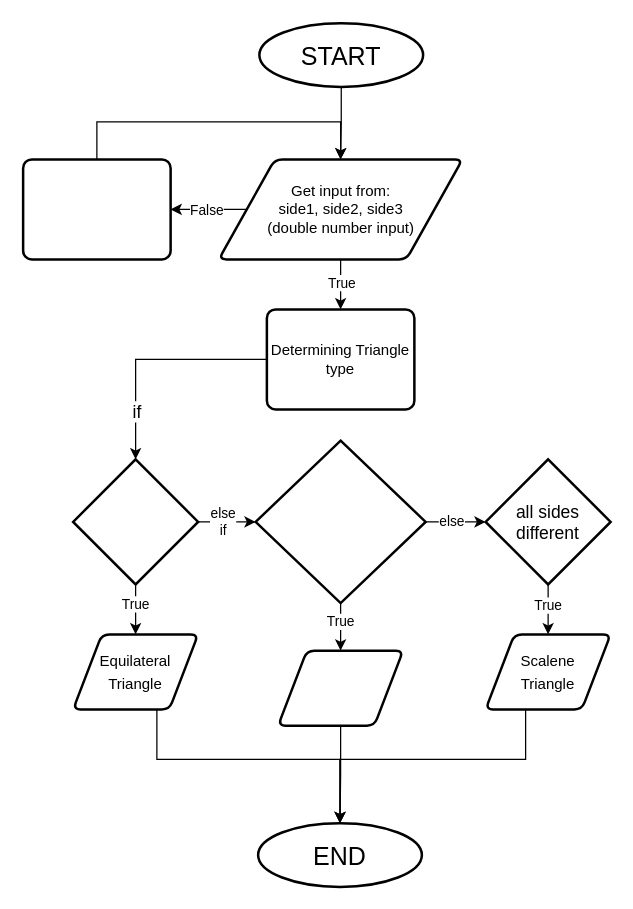
The diagram is 633 pixels wide and 909 high, and some of its shapes have lost their labels. Each missing label, with the centre of its shape:
"Invalid input,enter a double number" belongs at (96,209).
"Isosceles Triangle" belongs at (340,687).
"s1 == s2 && s2 == s3" belongs at (135,521).
"s1 == s2 || s1 == s3 || s2 == s3" belongs at (340,521).
